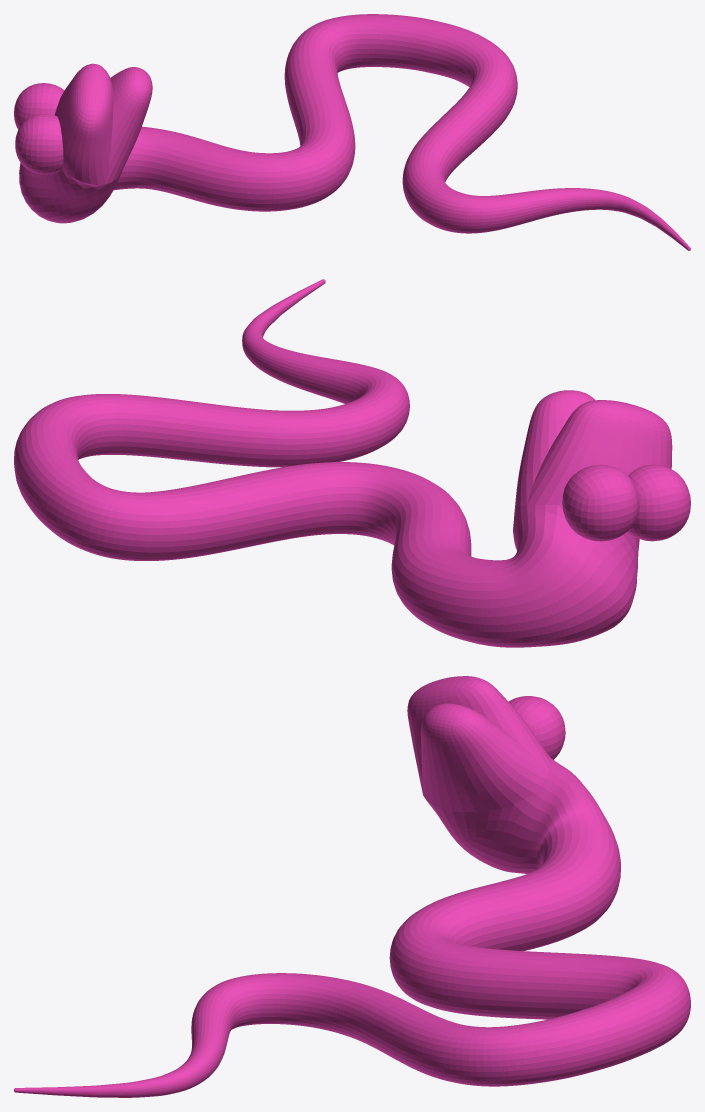
The model's file is snake3.glb.
The picture shows the model from 3 angles, top to bottom: view 1: azimuth 30°, elevation 25°; view 2: azimuth 150°, elevation 25°; view 3: azimuth 270°, elevation 25°; orthographic projection. The views are drawn at different scales.
Parts seen in each view (by area): view 1: Cube.008; view 2: Cube.008; view 3: Cube.008.
Boxes of the visible parts, bbox=[...] form: Cube.008: bbox=[14, 14, 690, 250]; Cube.008: bbox=[14, 279, 690, 647]; Cube.008: bbox=[14, 676, 690, 1097].
Bounding box in the file's own units: 0.5881 × 0.1885 × 0.5701.
